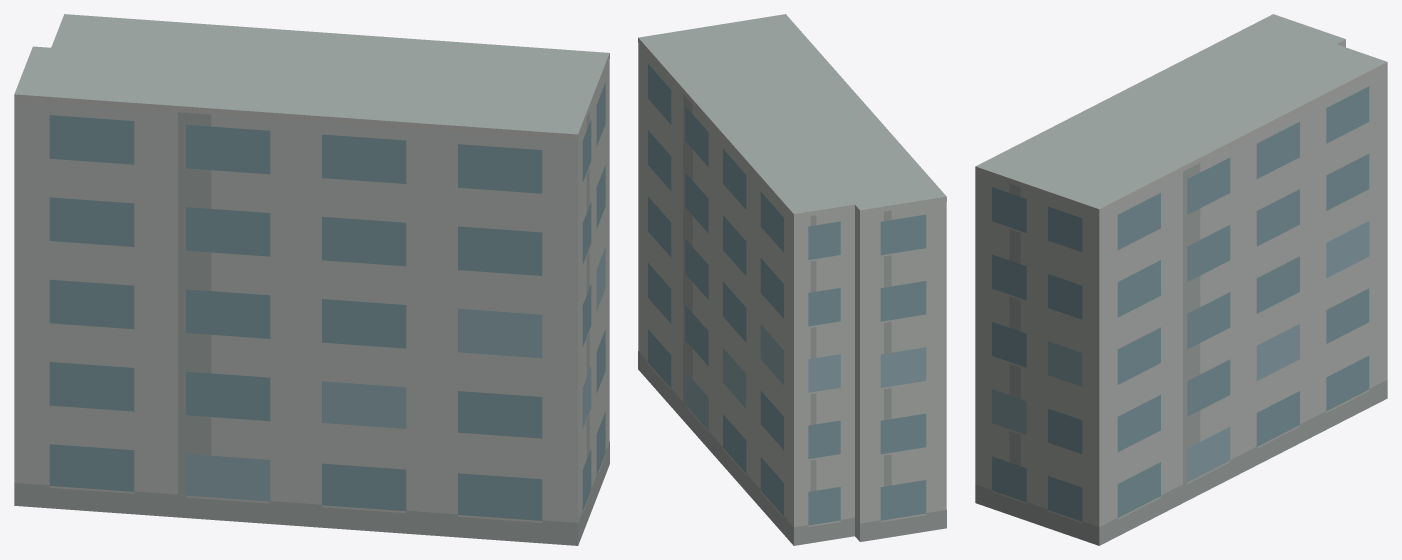
The model's file is survey-upis-32763500.glb.
The picture shows the model from 3 angles, left to right: view 1: azimuth 30°, elevation 25°; view 2: azimuth 150°, elevation 25°; view 3: azimuth 270°, elevation 25°; orthographic projection. The views are drawn at different scales.
Parts seen in each view (by area): view 1: survey-upis-32763500.tmp; view 2: survey-upis-32763500.tmp; view 3: survey-upis-32763500.tmp.
Boxes of the visible parts, x1,y1,x2,y2 form: survey-upis-32763500.tmp: [14, 14, 609, 545]; survey-upis-32763500.tmp: [638, 14, 946, 545]; survey-upis-32763500.tmp: [975, 14, 1387, 545].
Size of the model in its own units: 20.1 by 16.15 by 17.93.
